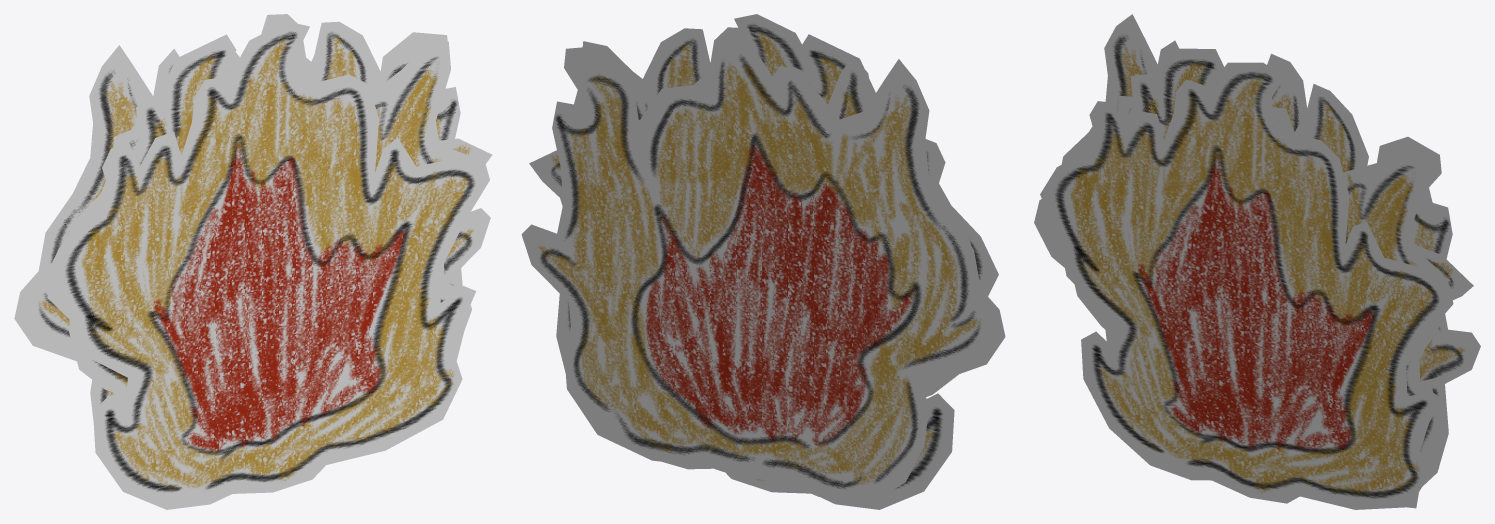
Rendered from Fire.fbx.
3 renders of one model, left to right at view 1: azimuth 30°, elevation 25°; view 2: azimuth 150°, elevation 25°; view 3: azimuth 330°, elevation 25°, orthographic. The views are drawn at different scales.
Parts seen in each view (by area): view 1: Fire4, Fire1, Fire3, Fire2; view 2: Fire1, Fire4, Fire2, Fire3; view 3: Fire4, Fire3, Fire1, Fire2.
Boxes of the visible parts, x1,y1,x2,y2 form: Fire4: (49, 21, 489, 509); Fire1: (14, 14, 490, 420); Fire3: (67, 34, 471, 402); Fire2: (47, 21, 492, 400); Fire1: (521, 27, 1005, 504); Fire4: (726, 14, 998, 509); Fire2: (529, 28, 980, 497); Fire3: (560, 34, 971, 485); Fire4: (1040, 62, 1453, 509); Fire3: (1069, 48, 1452, 508); Fire1: (1034, 14, 1480, 468); Fire2: (1118, 40, 1473, 485).
Size of the model in its own units: 60.98 by 57.63 by 3.16.
1 material, 1 textured.
